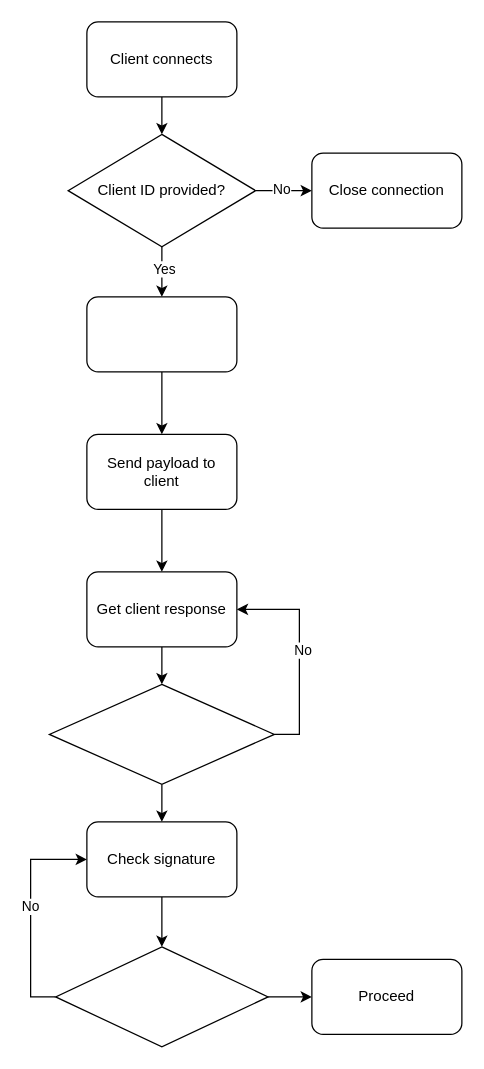
The diagram is 484 pixels wide and 1069 high, and some of its shapes have lost their labels. Each missing label, with the centre of its shape:
Got a valid response?: pixel 161 733
Signature matches?: pixel 161 996
Use Client ID to sign a random payload: pixel 161 334
